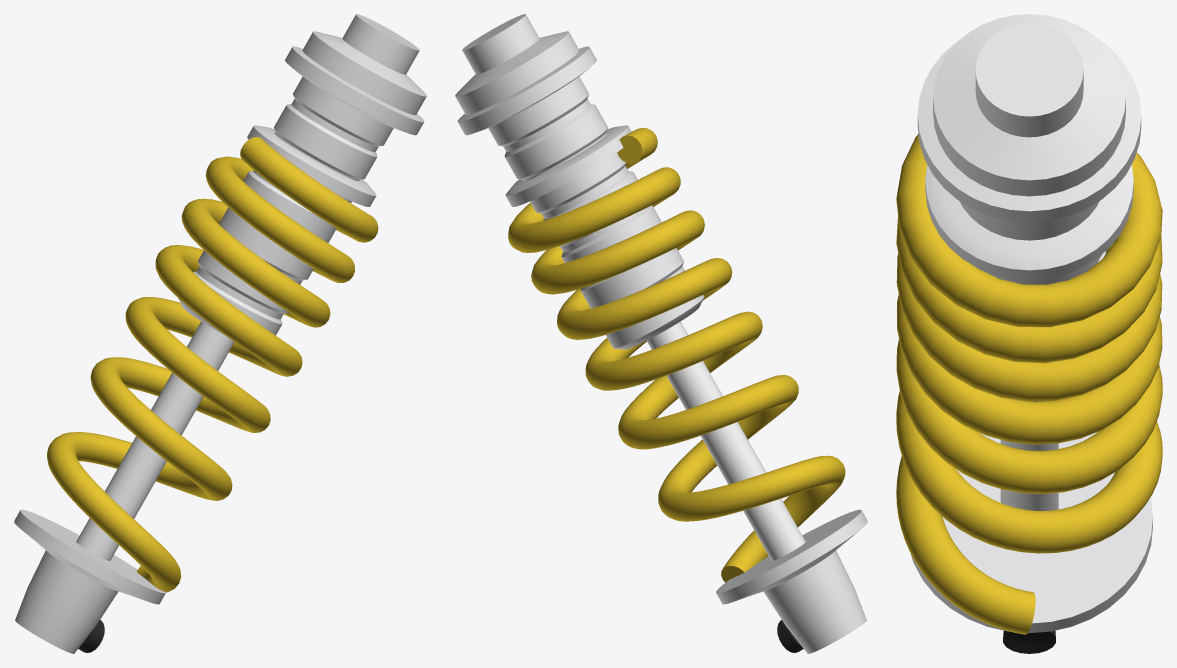
The model's file is coilover.glb.
3 views of the same model, side by side, from view 1: azimuth 30°, elevation 25°; view 2: azimuth 150°, elevation 25°; view 3: azimuth 270°, elevation 25° (orthographic). The views are drawn at different scales.
Visible parts, largest first — view 1: shock_coilover; view 2: shock_coilover; view 3: shock_coilover.
Boxes of the visible parts, x1,y1,x2,y2 form: shock_coilover: (14,14,426,653); shock_coilover: (455,14,867,653); shock_coilover: (896,14,1162,653).
Bounding box in the file's own units: 0.2132 × 0.2899 × 0.0843.
